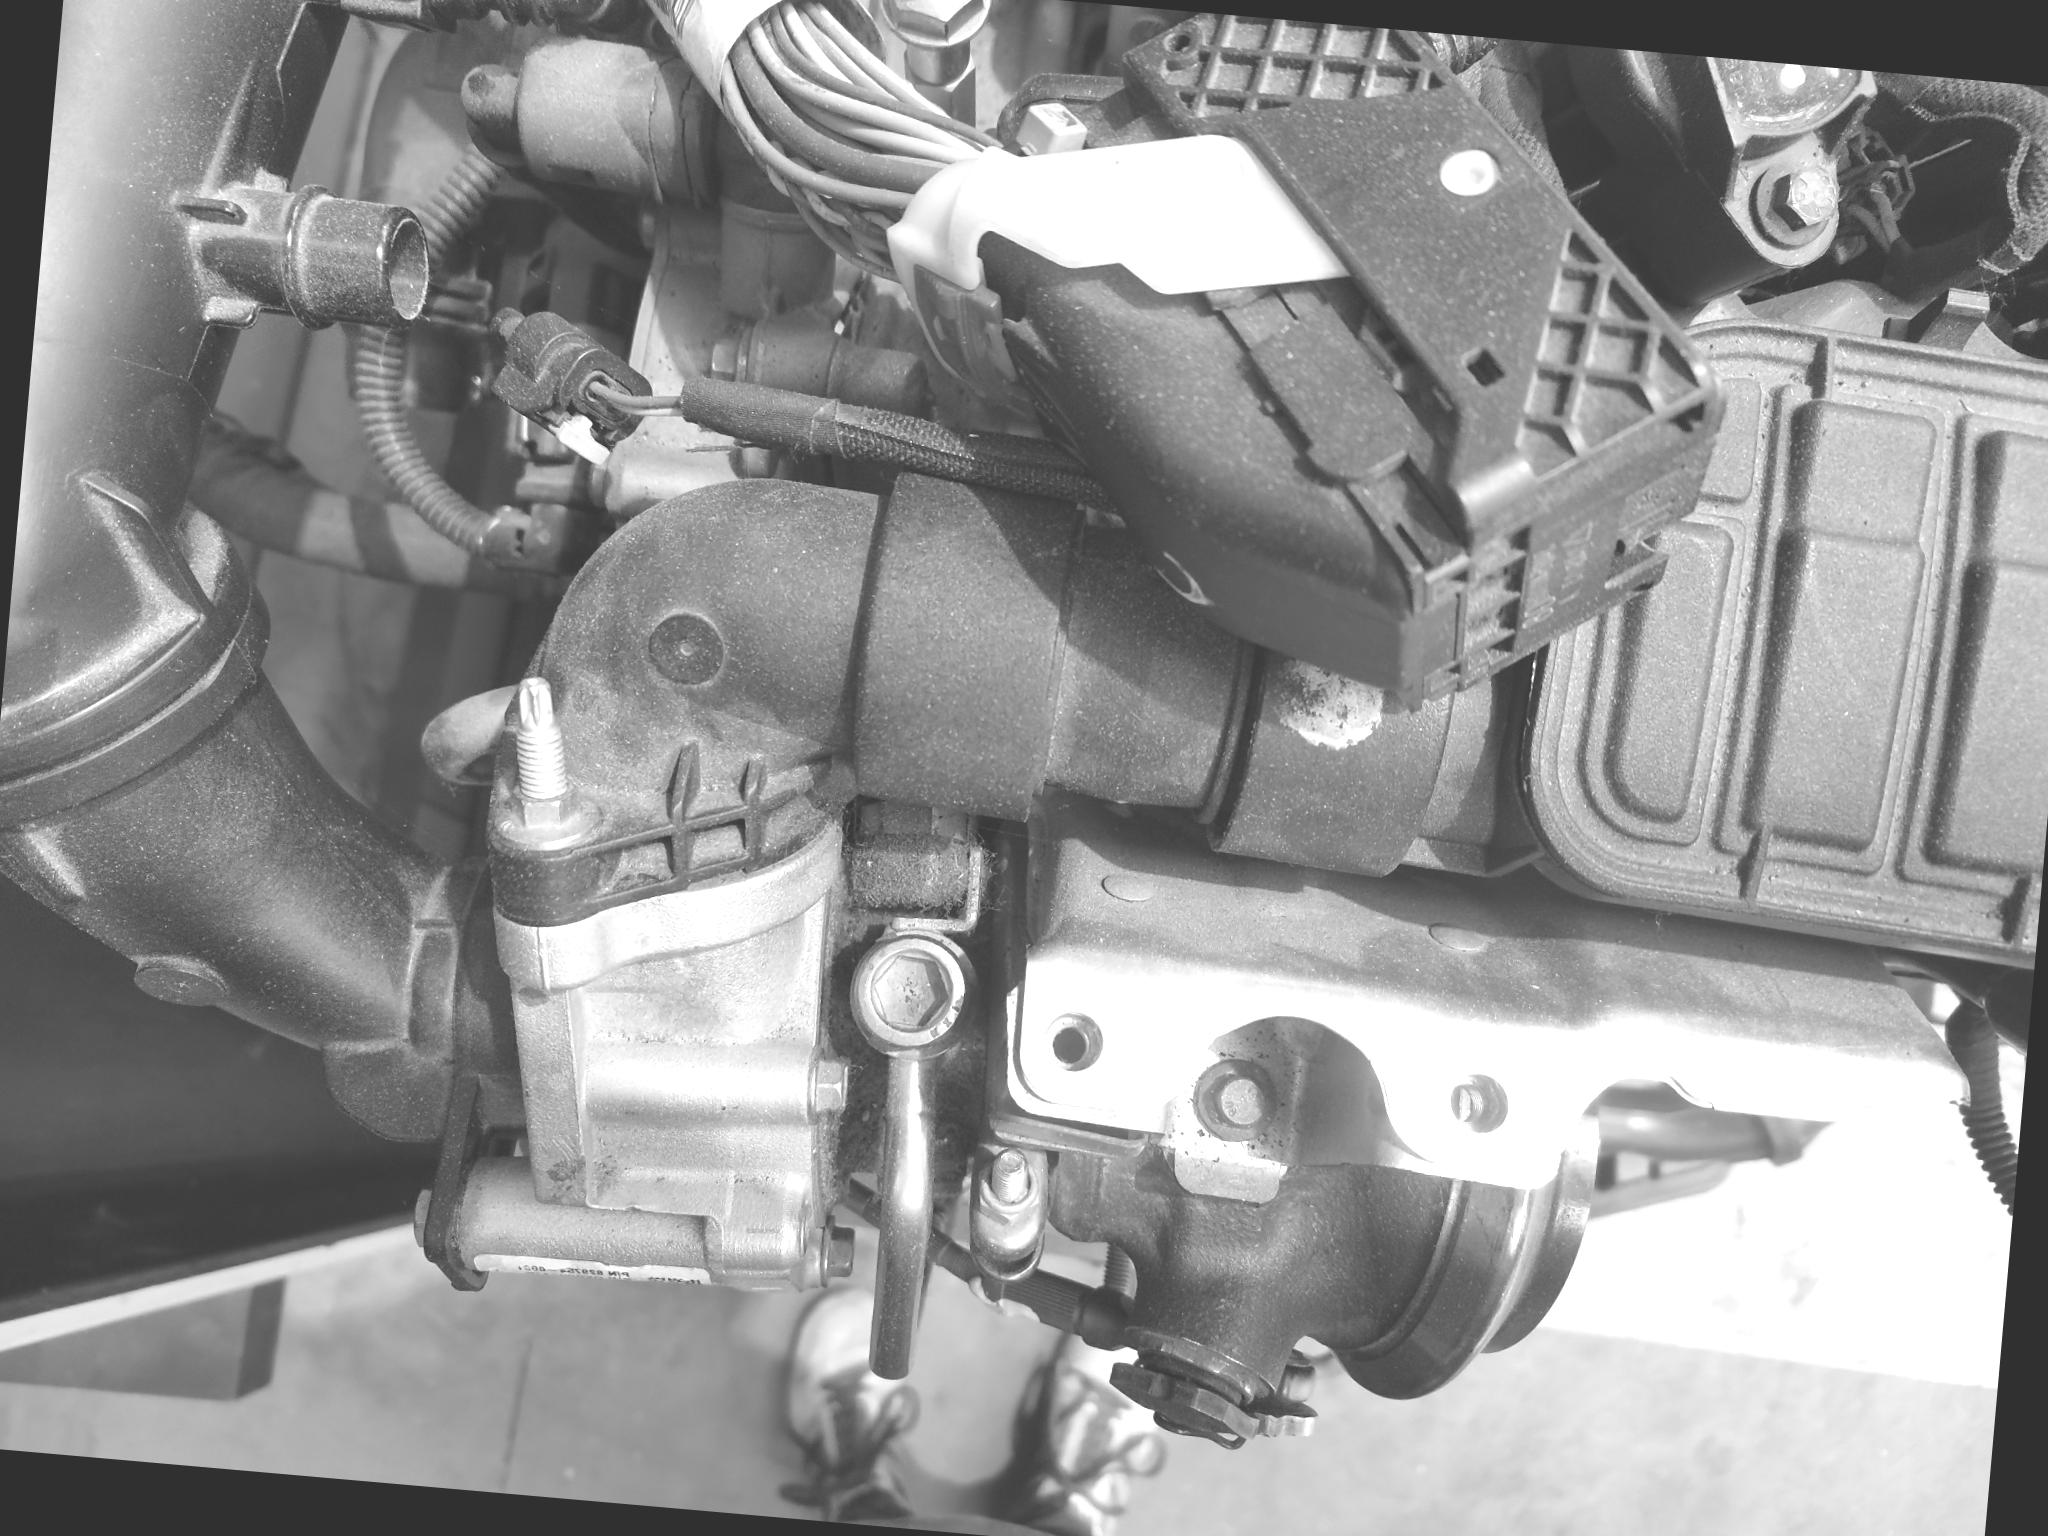allen: (838, 926, 989, 1067)
hexagonal: (1184, 1051, 1294, 1159)
